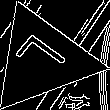L_SE: (11, 32, 73, 87)
